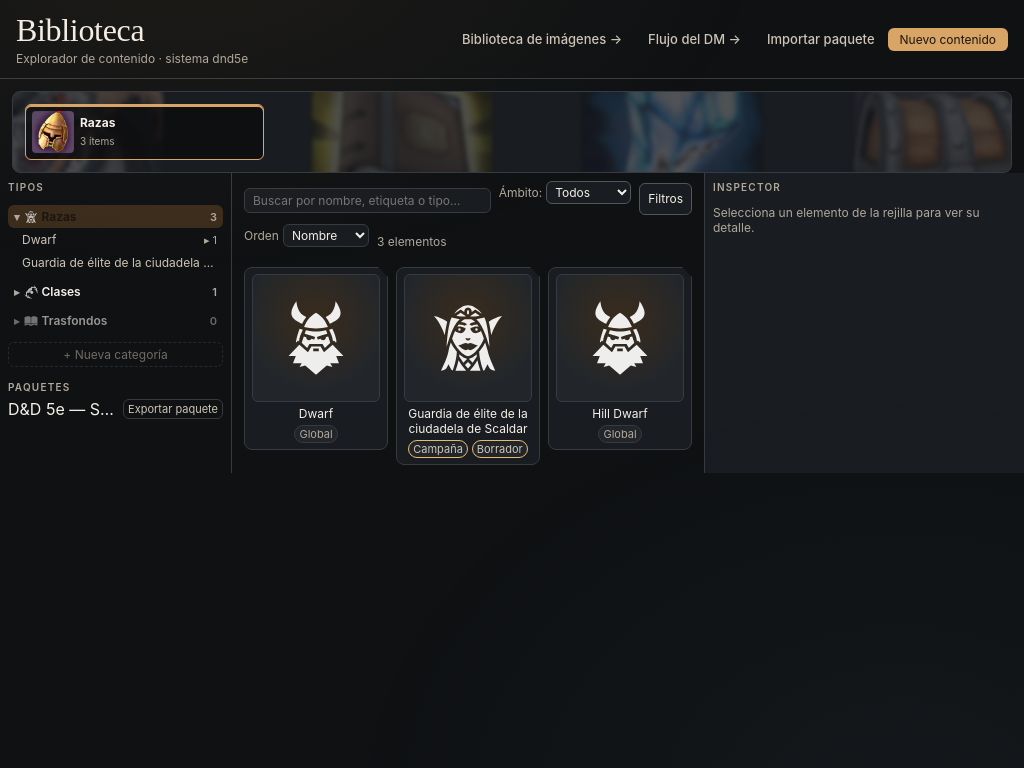
Explorador de Biblioteca real (PMB-4.2) › carga las revisiones bajo demanda en el inspector
Expected: the button "▾ Razas 3" is shown, x1=8 y1=205 x2=223 y2=228
Click the button "Dwarf ▸ 1": (116, 240) x1=8 y1=228 x2=223 y2=251
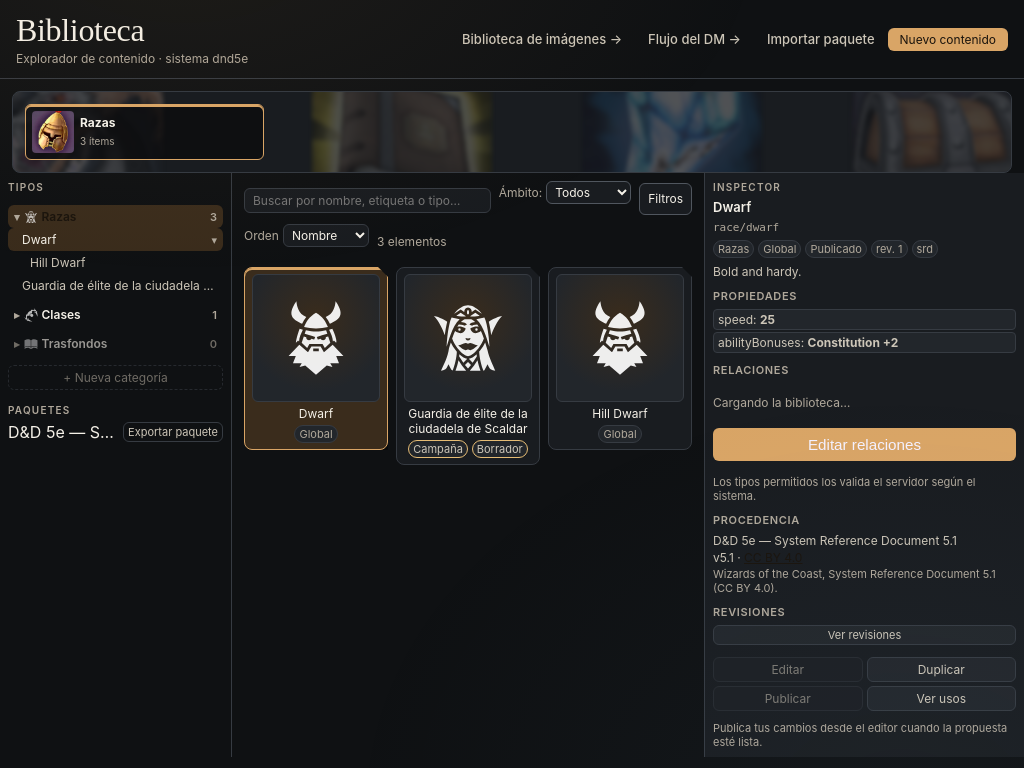
Click the button "Ver revisiones": (864, 635) x1=713 y1=625 x2=1016 y2=645
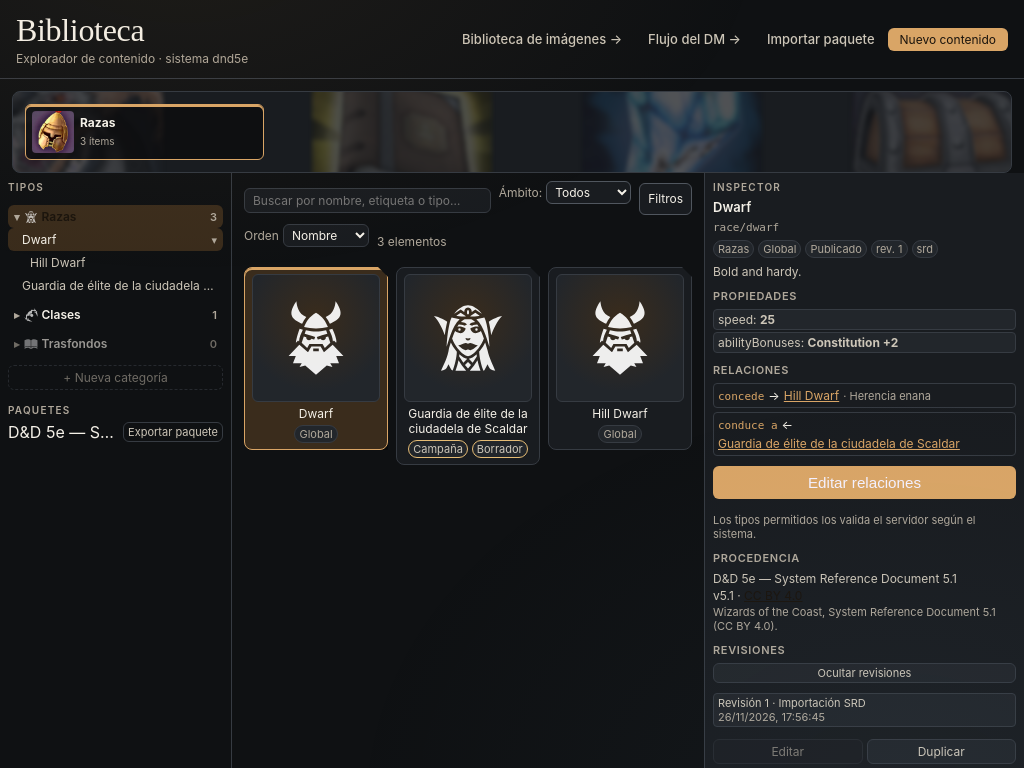
Expected: the list item "Revisión 1 · Importación SRD" is shown, x1=713 y1=693 x2=1016 y2=727
Click the button "Ocultar revisiones": (864, 673) x1=713 y1=663 x2=1016 y2=683
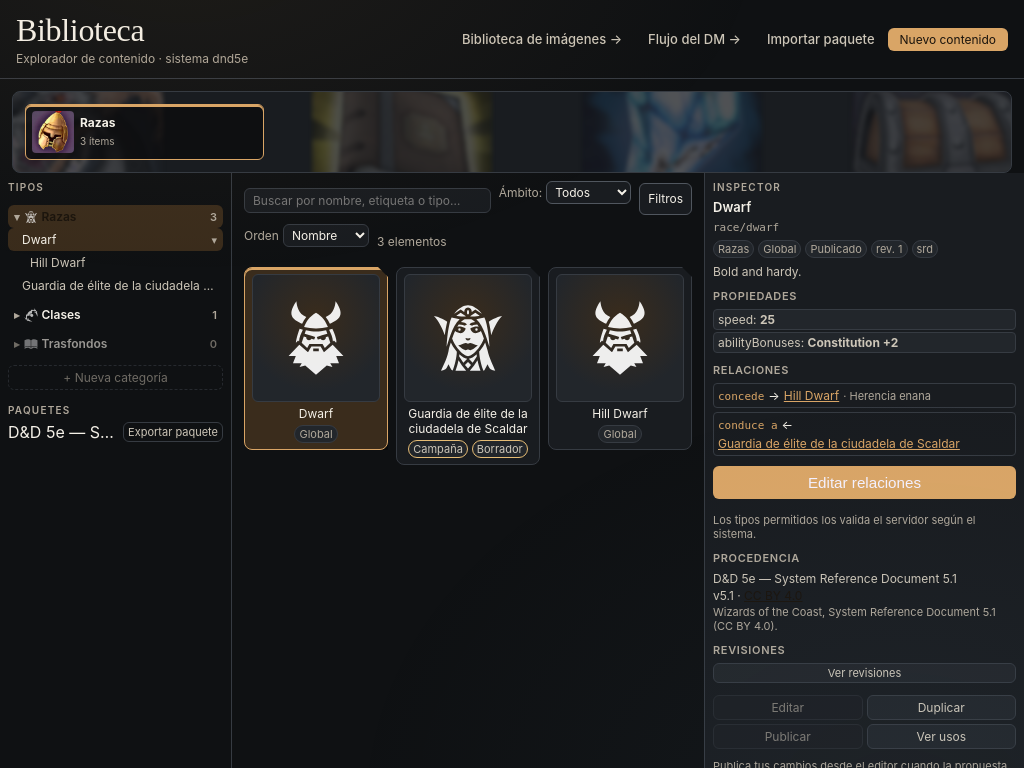
Expected: the list item "Revisión 1 · Importación SRD" is gone
